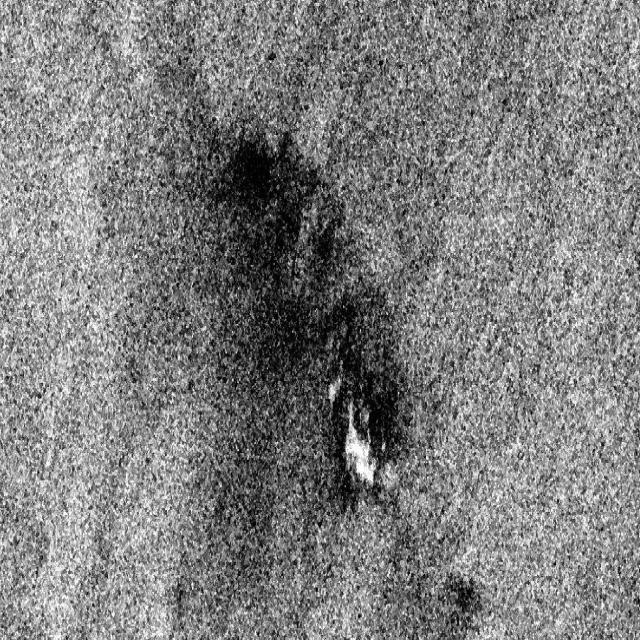look-alike: (201, 129, 412, 516), (442, 560, 482, 626)
